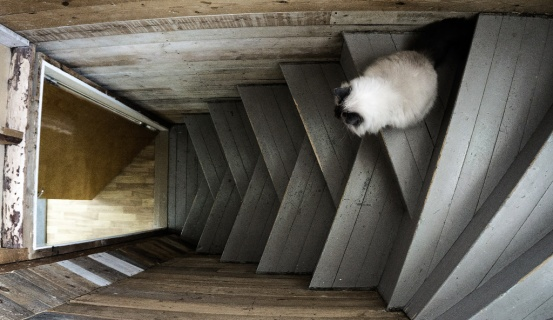Cat: (335, 14, 471, 132)
